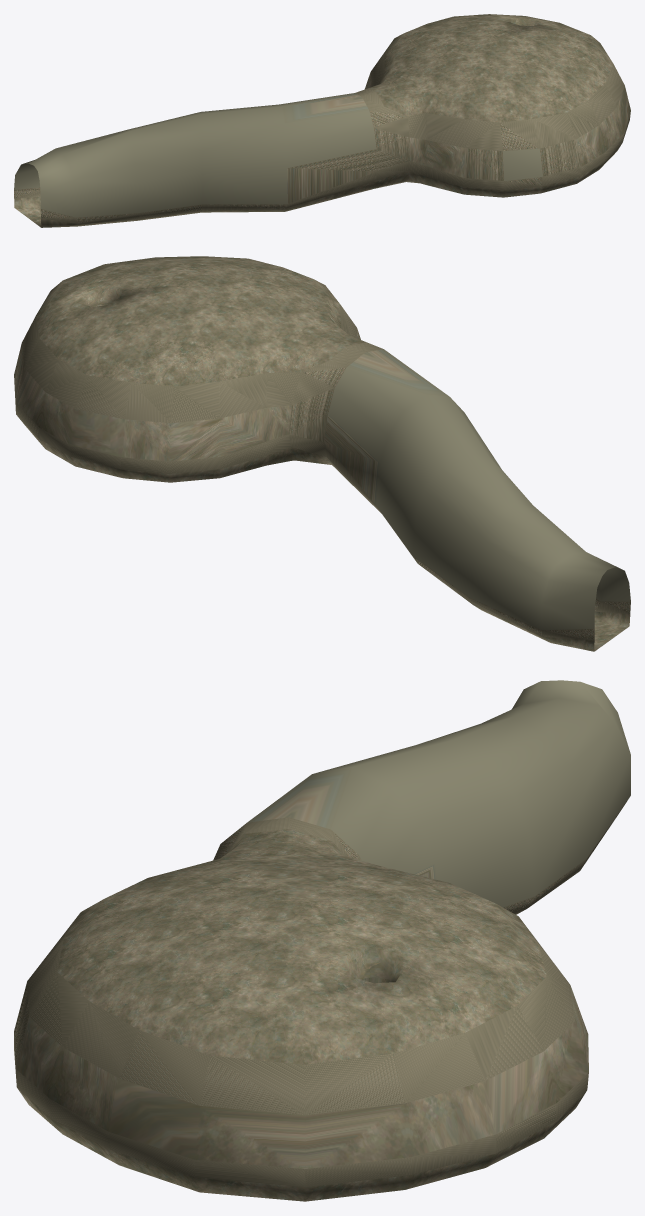
The model's file is OVERHILL_A_01_OBJECT65.fbx.
The picture shows the model from 3 angles, top to bottom: view 1: azimuth 30°, elevation 25°; view 2: azimuth 150°, elevation 25°; view 3: azimuth 270°, elevation 25°; orthographic projection. The views are drawn at different scales.
Visible parts, largest first — view 1: OVERHILL_A_01_OBJECT65; view 2: OVERHILL_A_01_OBJECT65; view 3: OVERHILL_A_01_OBJECT65.
Part boxes in pixels (x1=…): OVERHILL_A_01_OBJECT65: x1=14, y1=14, x2=630, y2=227; OVERHILL_A_01_OBJECT65: x1=14, y1=256, x2=630, y2=651; OVERHILL_A_01_OBJECT65: x1=14, y1=680, x2=630, y2=1201.
Size of the model in its own units: 204801 by 51358 by 107159.
Materials: 1 (1 with a texture image).
